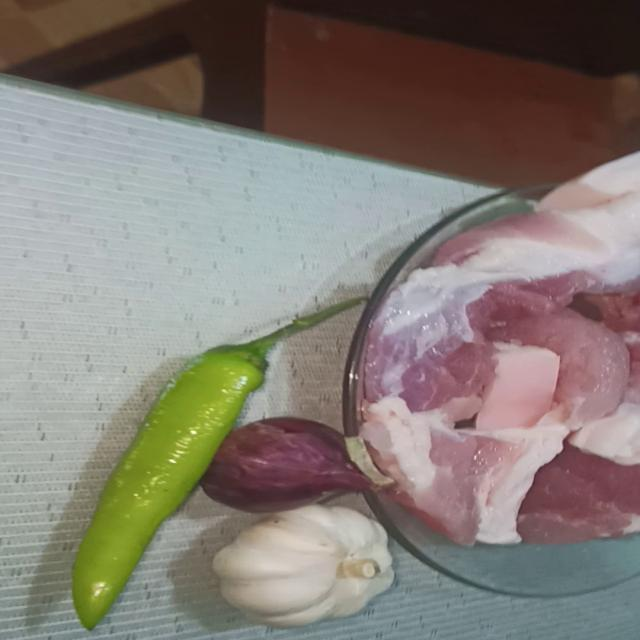chili_pepper: (68, 306, 323, 637)
garlic: (187, 510, 421, 628)
onion: (190, 408, 406, 535)
pork: (471, 312, 640, 562), (303, 275, 534, 430), (377, 225, 608, 363), (338, 387, 539, 535), (512, 146, 640, 316)
